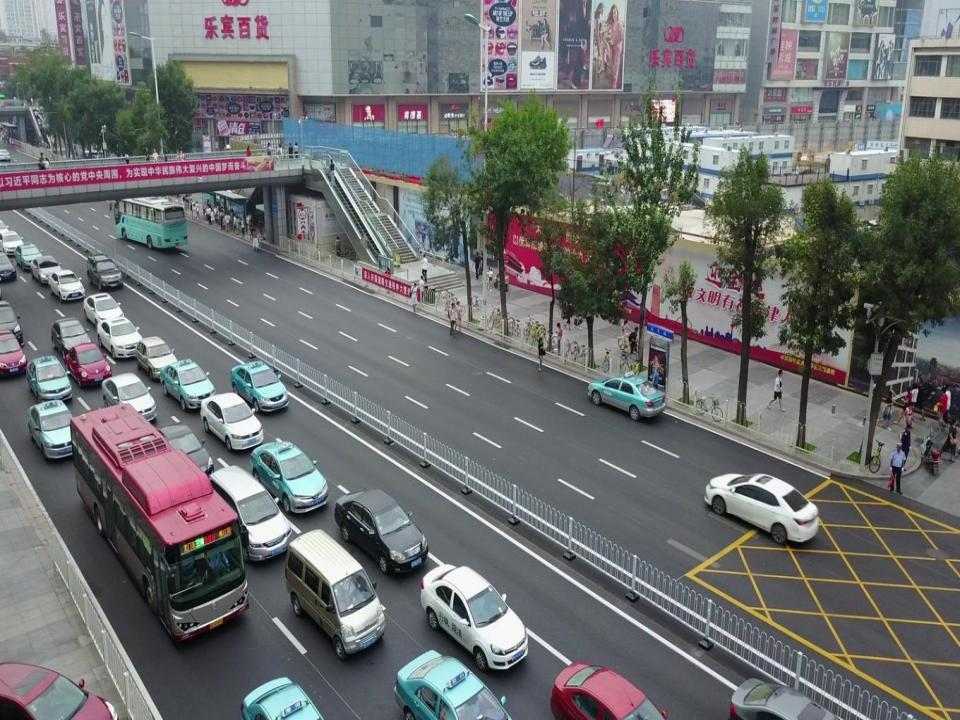bus: (70, 400, 250, 643), (114, 195, 192, 252)
car: (285, 527, 386, 657), (421, 564, 528, 673), (392, 648, 517, 720), (702, 472, 820, 544), (332, 488, 428, 573), (549, 660, 667, 720), (0, 660, 120, 718), (251, 438, 328, 514), (729, 676, 843, 720), (238, 673, 330, 720), (198, 391, 264, 451), (587, 372, 667, 420), (25, 396, 77, 462), (230, 360, 290, 412), (100, 372, 157, 425), (159, 358, 216, 410), (25, 354, 75, 404), (64, 342, 110, 385), (96, 317, 144, 358), (136, 335, 179, 377), (51, 318, 90, 357), (84, 292, 124, 328), (86, 253, 124, 290), (0, 328, 27, 376), (47, 269, 83, 299), (0, 302, 25, 343), (28, 254, 62, 283), (0, 250, 17, 286), (21, 244, 46, 268), (0, 230, 24, 253)
